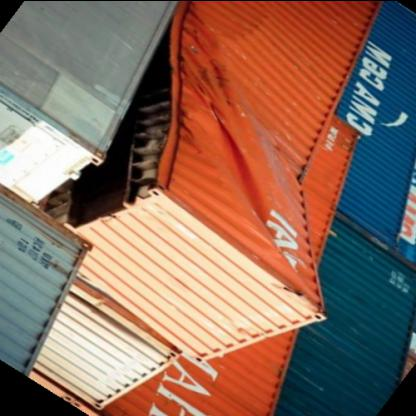Damage: (175, 14, 289, 250)
